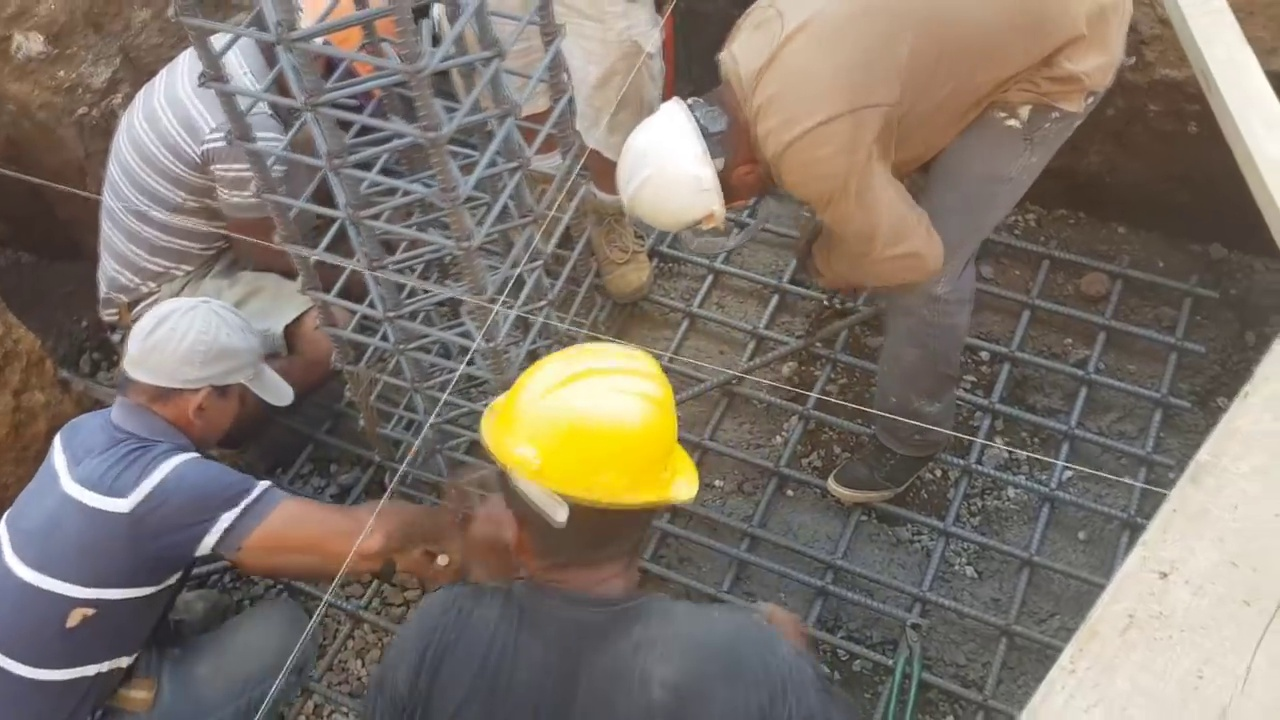helmet: (469, 348, 709, 530), (622, 93, 713, 252), (300, 0, 399, 75)
helmet-off: (104, 294, 308, 450)
helmet-on: (470, 344, 706, 588), (621, 50, 776, 252), (248, 4, 397, 107)
person: (620, 0, 1137, 514), (11, 289, 442, 720), (374, 341, 854, 717), (81, 0, 391, 379)
